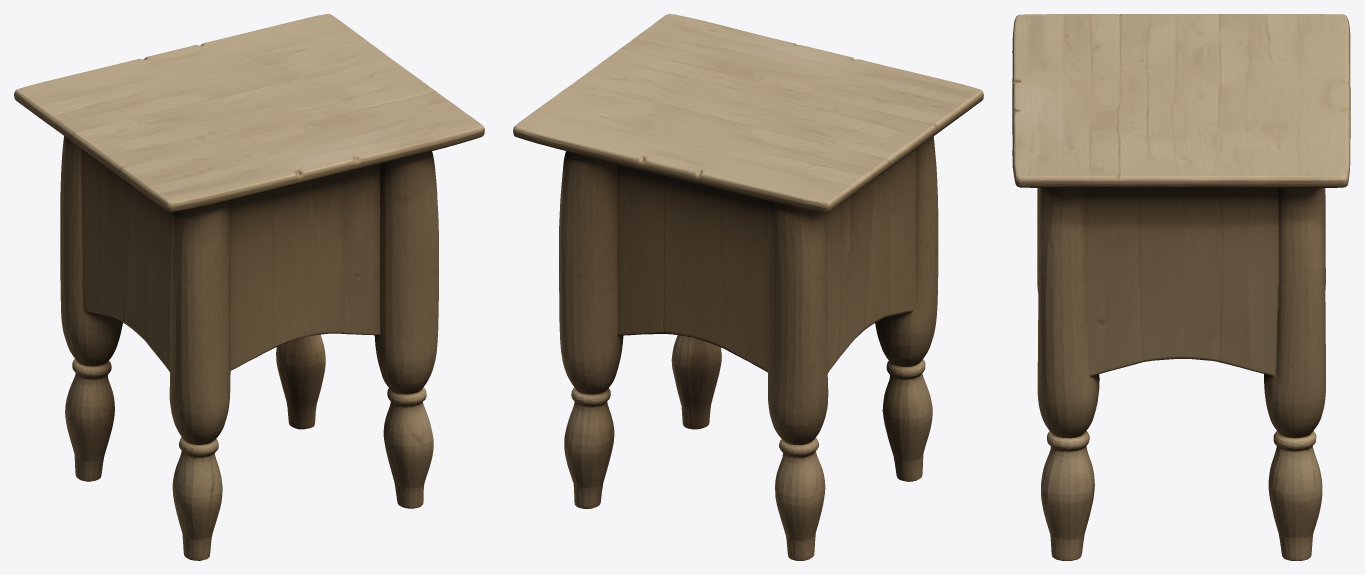
3 views of the same model, side by side, from view 1: azimuth 30°, elevation 25°; view 2: azimuth 150°, elevation 25°; view 3: azimuth 270°, elevation 25° (orthographic). The views are drawn at different scales.
Visible parts, largest first — view 1: geometry_0; view 2: geometry_0; view 3: geometry_0.
Boxes of the visible parts, bbox=[...] form: geometry_0: bbox=[14, 14, 484, 560]; geometry_0: bbox=[513, 14, 983, 560]; geometry_0: bbox=[1012, 14, 1350, 560].
Bounding box in the file's own units: 0.8727 × 1 × 0.7561.
Materials: 1 (1 with a texture image).
